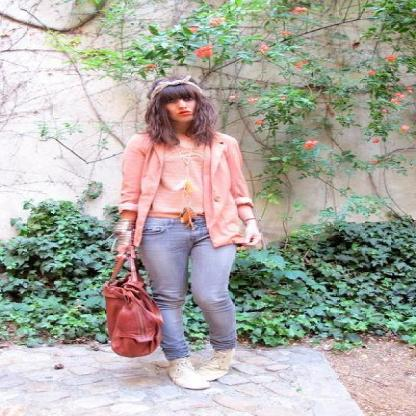bag: (98, 273, 172, 357)
jacket: (119, 132, 260, 247)
pants: (137, 208, 260, 363)
shirt: (157, 141, 211, 217)
shoe: (172, 346, 228, 386)
